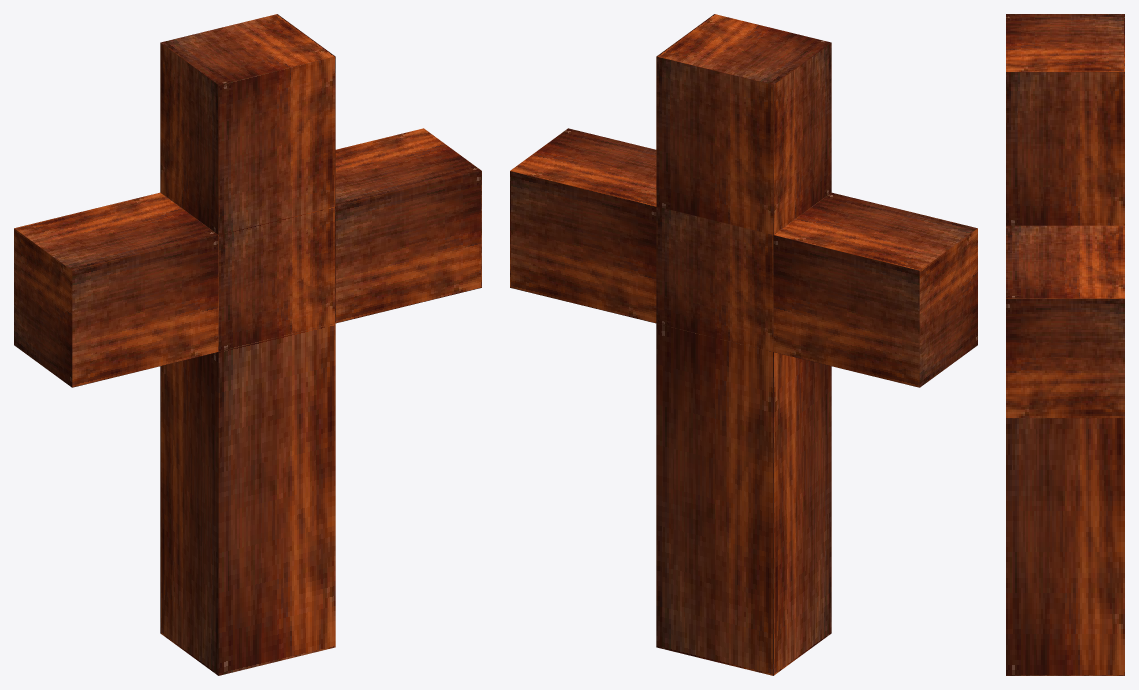
File: crucifix.fbx
3 renders of one model, left to right at view 1: azimuth 30°, elevation 25°; view 2: azimuth 150°, elevation 25°; view 3: azimuth 270°, elevation 25°, orthographic. The views are drawn at different scales.
Parts seen in each view (by area): view 1: Cross; view 2: Cross; view 3: Cross.
Part boxes in pixels (<box>): Cross: <box>14,14,481,675</box>; Cross: <box>510,14,977,675</box>; Cross: <box>1006,14,1124,675</box>.
Size of the model in its own units: 60.49 by 83.37 by 14.86.
